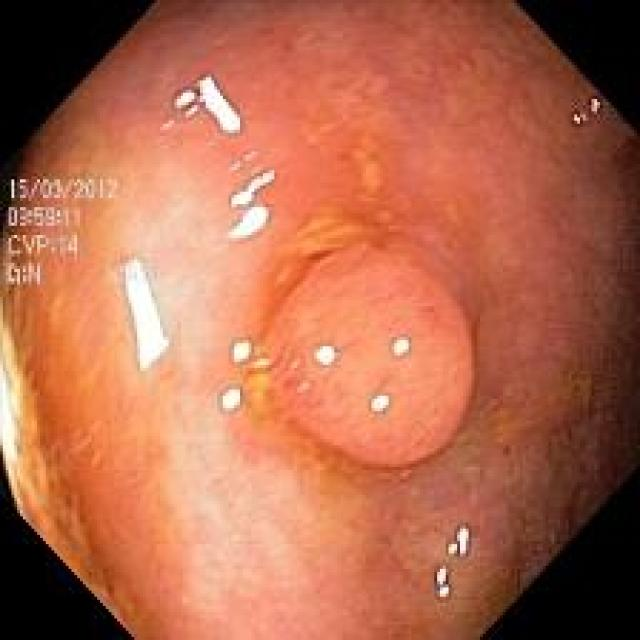Polyps: (262, 245, 474, 466)
